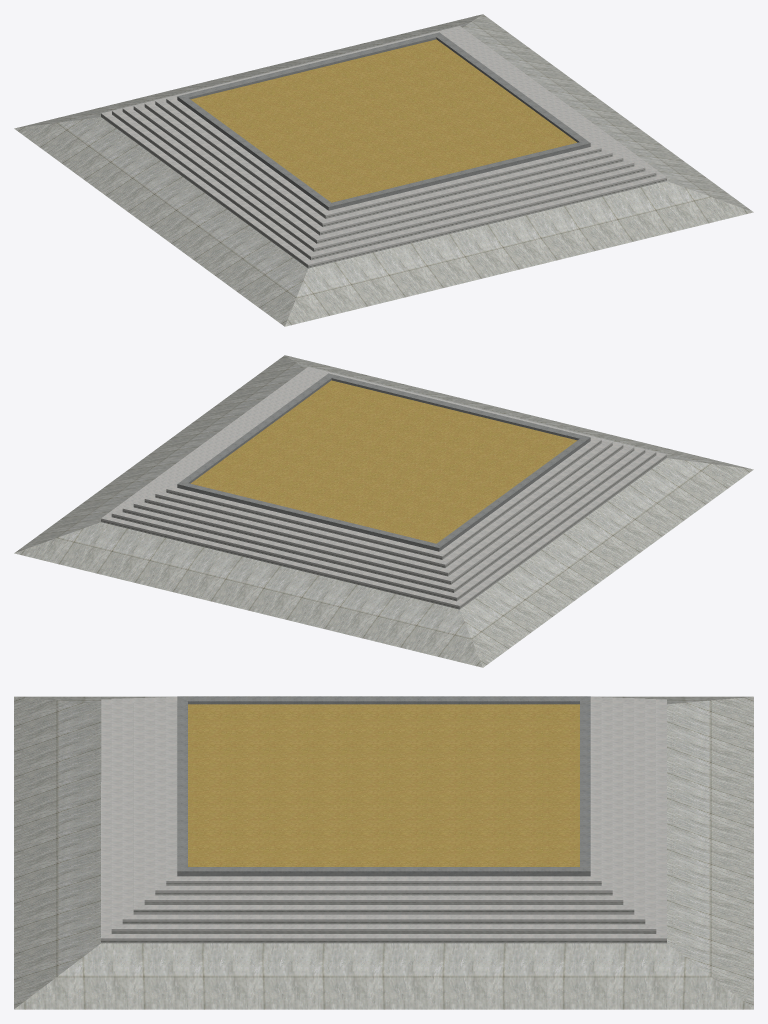
Rendered from ply_corl_garden_med_s01_l0.fbx.
3 views of the same model, one above another, from view 1: azimuth 30°, elevation 25°; view 2: azimuth 150°, elevation 25°; view 3: azimuth 270°, elevation 25° (orthographic). The views are drawn at different scales.
Visible parts, largest first — view 1: mesh_node; view 2: mesh_node; view 3: mesh_node.
Part boxes in pixels (<box>): mesh_node: <box>14,14,753,326</box>; mesh_node: <box>14,355,753,667</box>; mesh_node: <box>14,696,753,1009</box>.
Size of the model in its own units: 34 by 3.51 by 34.
